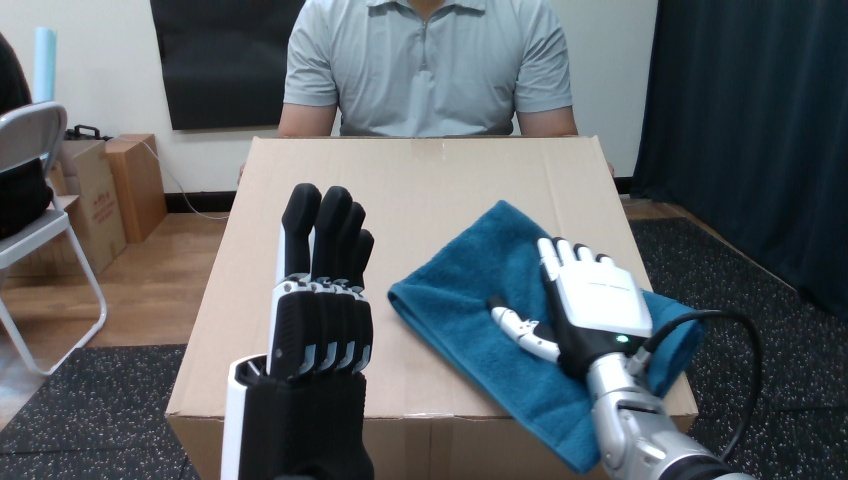left robot hand: (487, 237, 761, 479), (221, 183, 373, 478), (645, 317, 753, 458)
